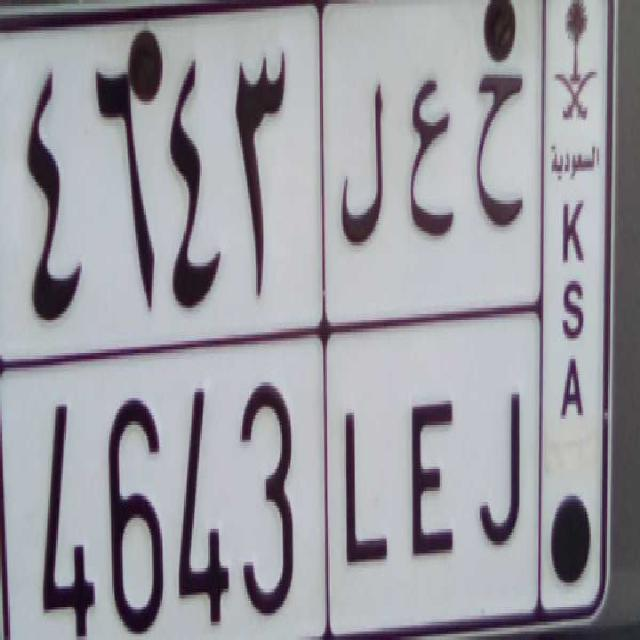license_plate: (1, 336, 539, 640)
